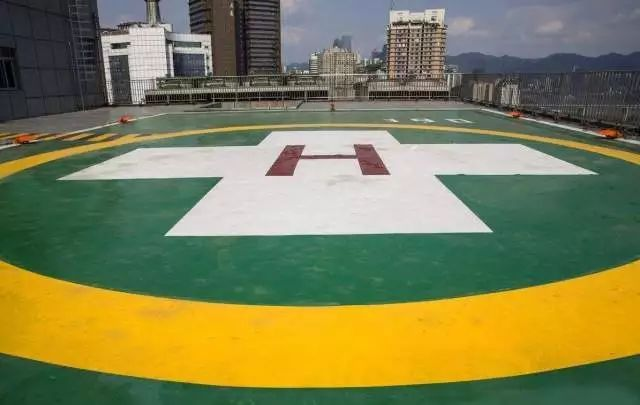H: (265, 144, 389, 175)
